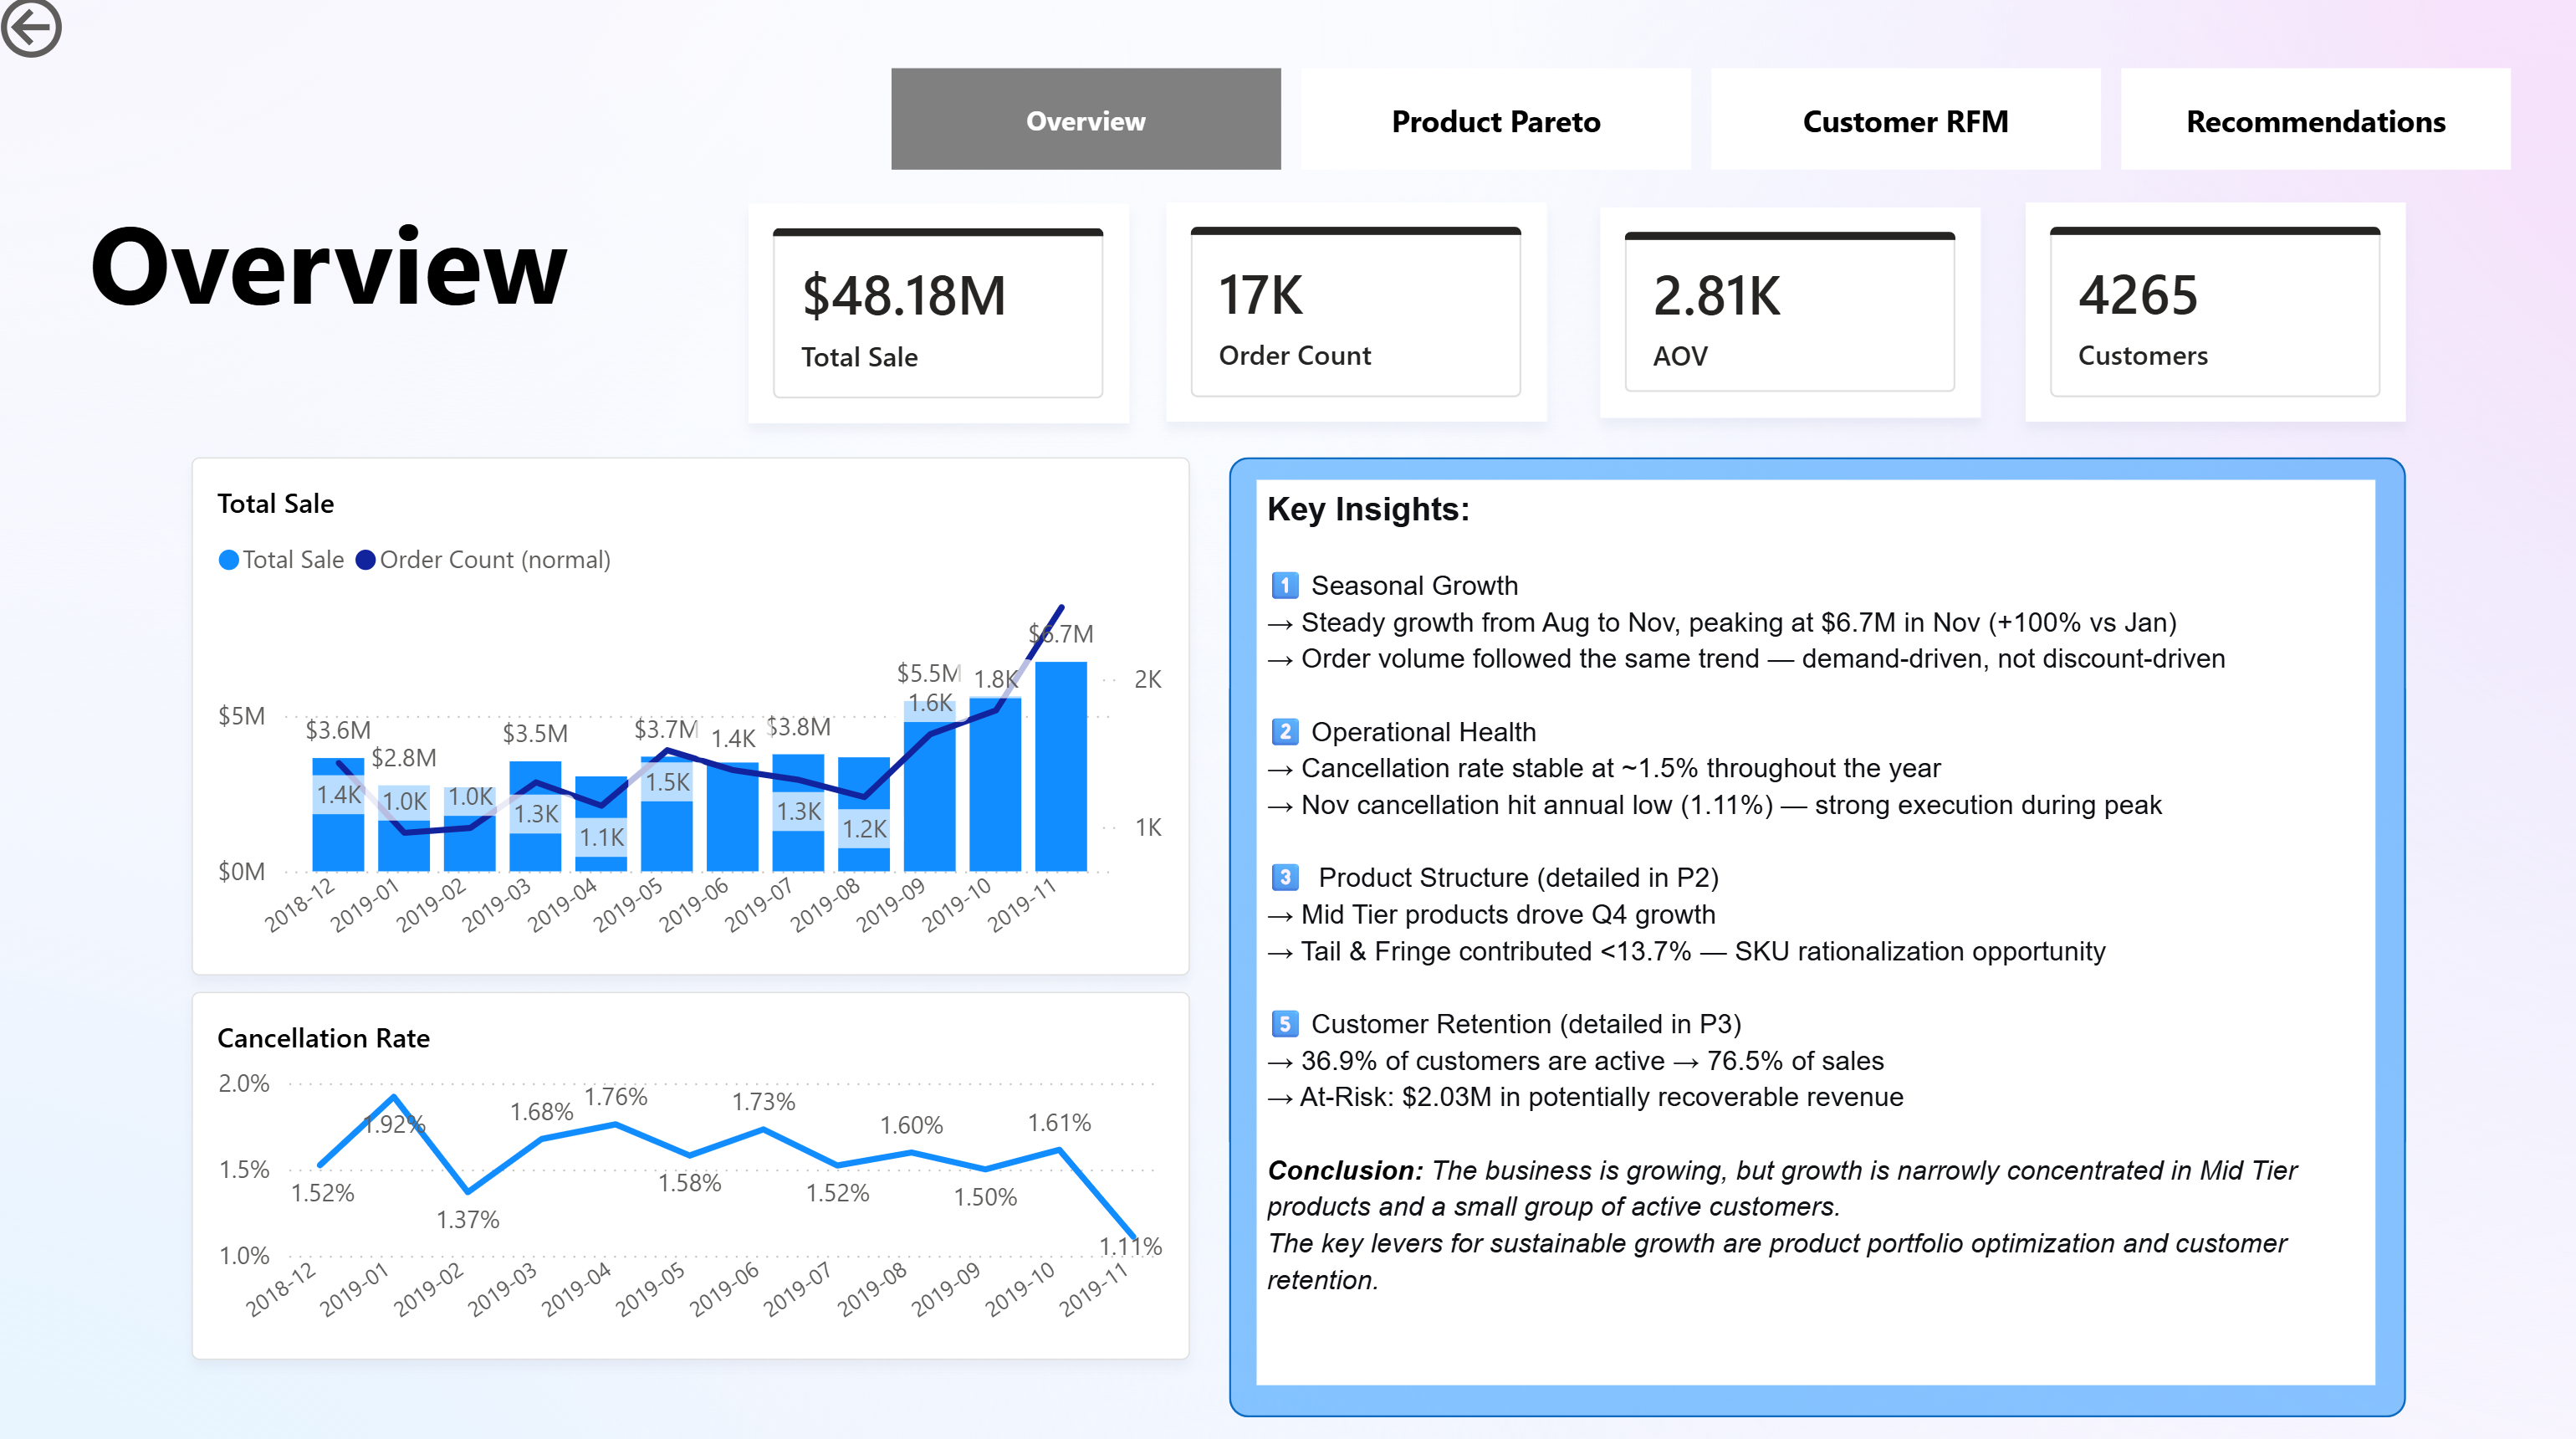

What the dashboard file says about the page in this screenshot:
{"tool":"powerbi","page":{"name":"Overview","canvas":[1280,720],"ordinal":0},"visuals":[{"type":"actionButton","box":[0,0,100,40],"z":0},{"type":"cardVisual","fields":{"Data":["My Measures.Total Sale"]},"box":[373.4,107,187.9,108.2],"z":1000},{"type":"lineClusteredColumnComboChart","title":"Total Sale ","fields":{"Category":["DateTable.Year-Month"],"Y":["My Measures.Total Sale"],"Y2":["My Measures.Order Count (normal)"]},"box":[99,232,492,255],"z":2000},{"type":"lineChart","title":"Cancellation Rate","fields":{"Y":["My Measures.Cancellation Rate (Transation Amount)"],"Category":["DateTable.Year-Month"]},"box":[99,495,492,181],"z":3000},{"type":"shape","box":[610,232,580,473],"z":4000},{"type":"cardVisual","fields":{"Data":["My Measures.Order Count (normal)"]},"box":[579.3,106.3,187.9,108.2],"z":5000},{"type":"cardVisual","fields":{"Data":["My Measures.Unique Customers"]},"box":[1002.7,106.3,187.3,108.2],"z":6000},{"type":"cardVisual","fields":{"Data":["My Measures.Average Order Value"]},"box":[793.2,108.8,187.9,103.9],"z":7000},{"type":"textbox","box":[624,243,551,446],"z":8000},{"type":"pageNavigator","box":[444,40,800,50],"z":9000},{"type":"textbox","box":[43.3,93.3,297.8,90],"z":10000}]}

Visuals, with their boxes in screenshot pixels (x1, y1, x2, y2), scaled from the page's 1280x720 canvas onto the 2576x1439 screenshot:
actionButton: 0,0,202,80
cardVisual - My Measures.Total Sale: 751,214,1130,430
"Total Sale " lineClusteredColumnComboChart: 199,463,1189,973
"Cancellation Rate" lineChart: 199,989,1189,1351
shape: 1228,463,2395,1409
cardVisual - My Measures.Order Count (normal): 1166,213,1544,428
cardVisual - My Measures.Unique Customers: 2018,213,2395,428
cardVisual - My Measures.Average Order Value: 1597,218,1975,425
textbox: 1256,485,2364,1377
pageNavigator: 893,80,2503,180
textbox: 87,187,687,366
